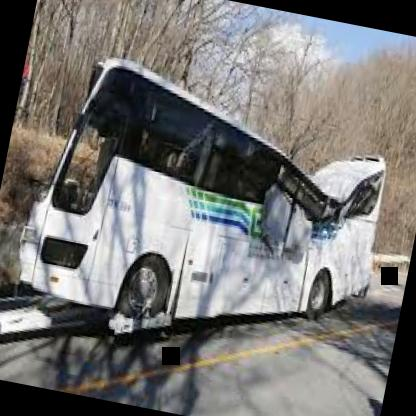accident: (16, 43, 408, 382)
